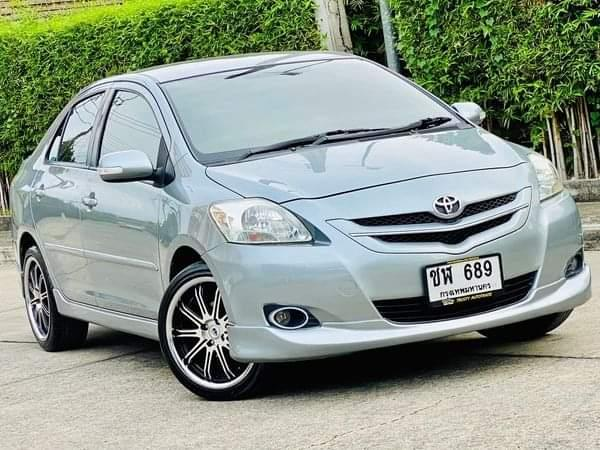license-plate: (420, 251, 507, 313)
